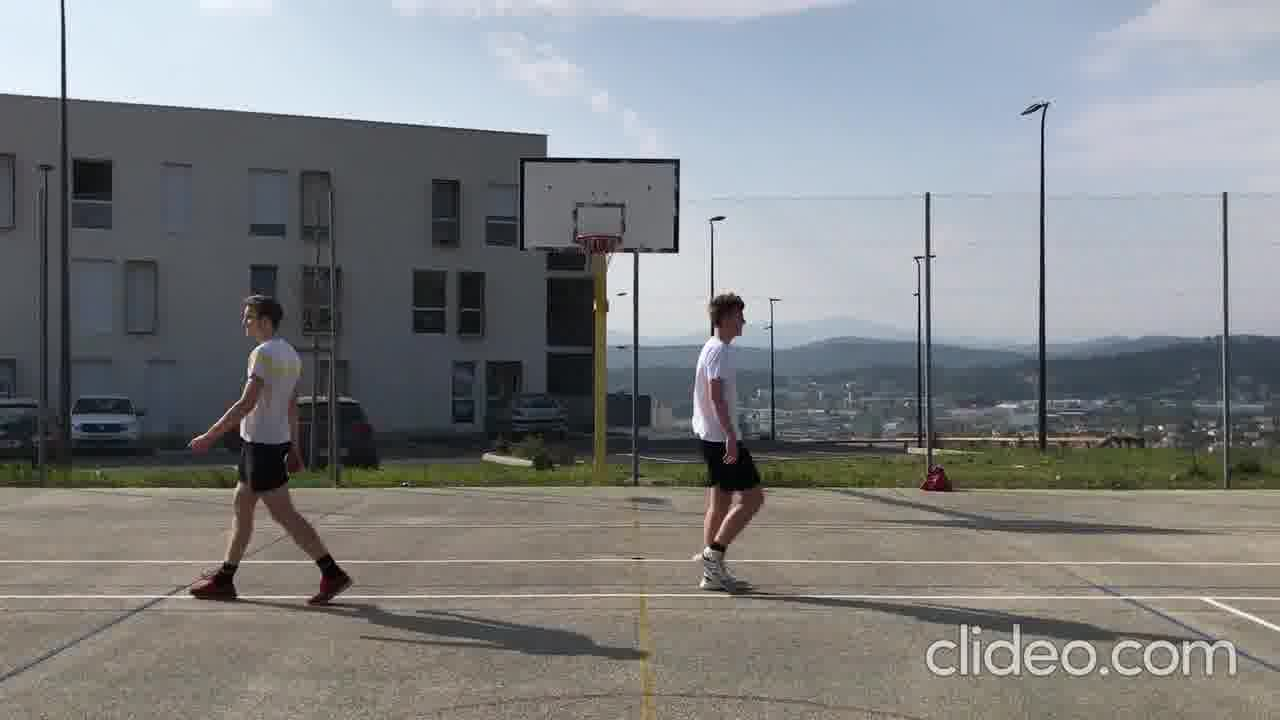jugador: (175, 277, 362, 619)
